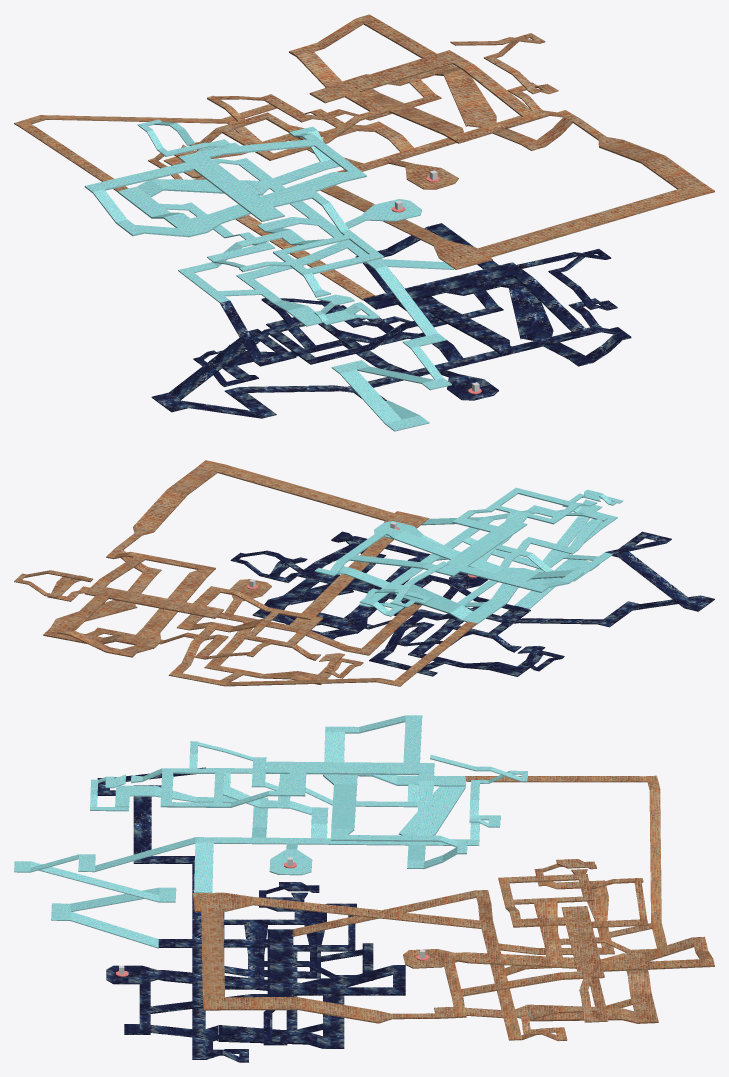
Rendered from Level9.FBX.
3 views of the same model, one above another, from view 1: azimuth 30°, elevation 25°; view 2: azimuth 150°, elevation 25°; view 3: azimuth 270°, elevation 25° (orthographic). The views are drawn at different scales.
Parts seen in each view (by area): view 1: Object002, Object001, Box001; view 2: Object002, Object001, Box001; view 3: Object002, Object001, Box001.
Boxes of the visible parts, box(x1,y1,x2,y2) form: Object002: box(14, 14, 714, 300); Object001: box(84, 119, 453, 431); Box001: box(151, 223, 631, 418); Object002: box(14, 460, 477, 686); Object001: box(314, 487, 623, 624); Box001: box(230, 531, 714, 676); Object002: box(192, 775, 714, 1041); Object001: box(14, 715, 527, 948); Box001: box(97, 767, 405, 1062).
Size of the model in its own units: 858 by 241 by 883.
4 materials, 4 textured.
